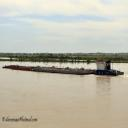tugboat: (93, 56, 125, 79)
